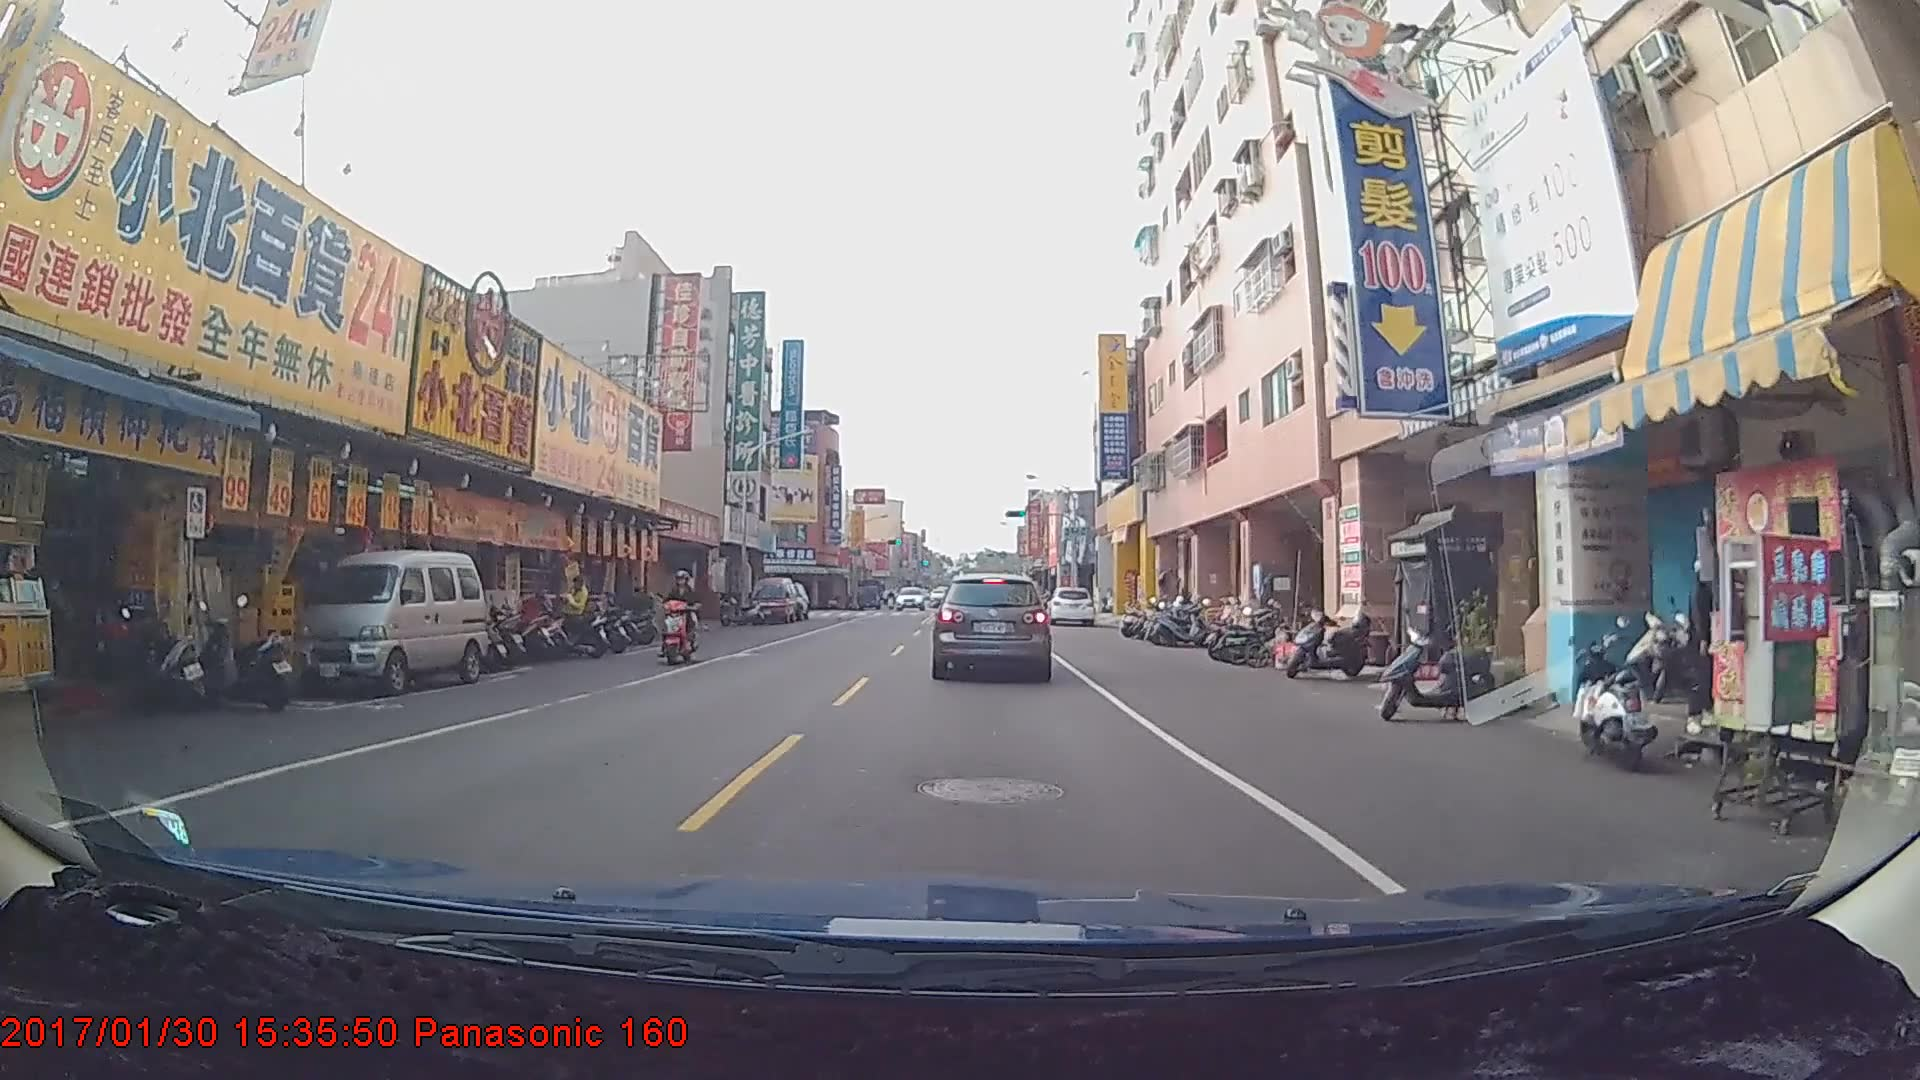pedestrian: (554, 567, 589, 649)
rider: (654, 565, 706, 662)
vehicle: (298, 552, 486, 690), (933, 572, 1050, 680), (747, 576, 798, 623), (1044, 586, 1094, 628), (893, 580, 923, 603)
